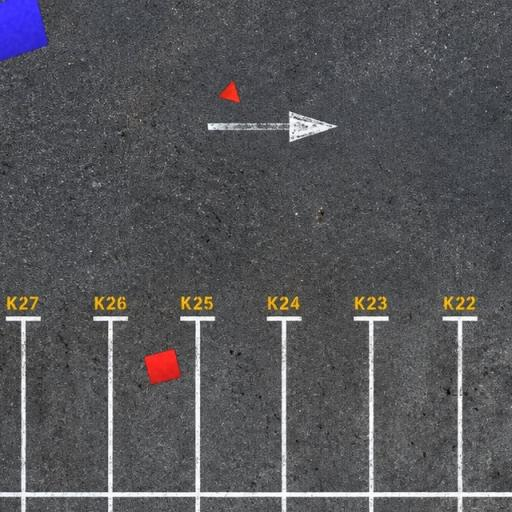BLUE_SQUARE: (0, 0, 50, 65)
RED_SQUARE: (144, 348, 182, 386)
